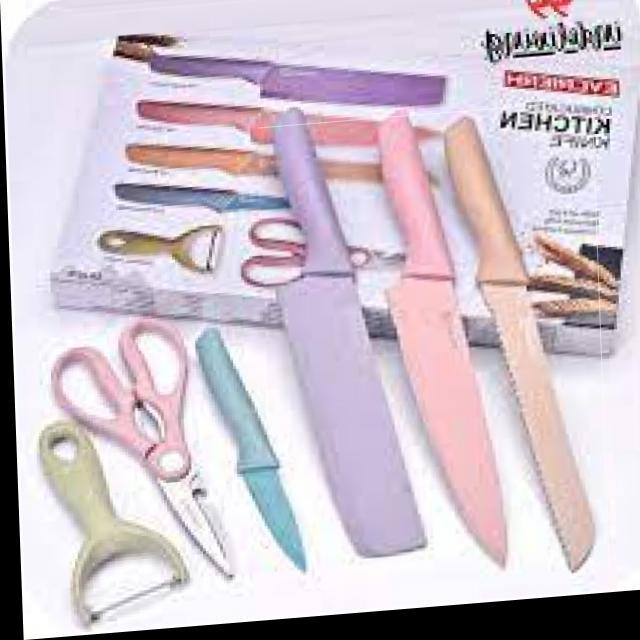knife: (446, 118, 598, 575), (276, 104, 427, 559), (377, 109, 509, 566), (196, 326, 308, 573)
